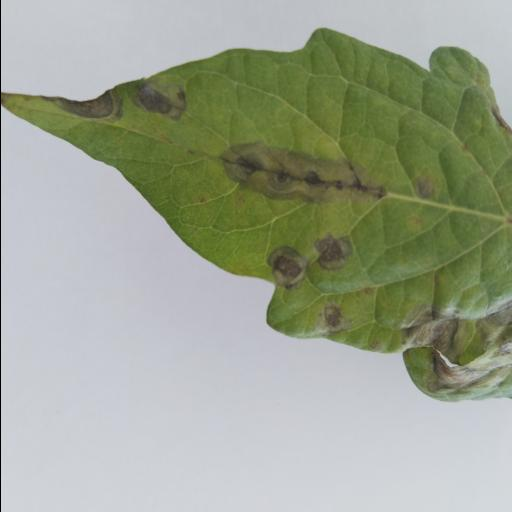Early Blight: (0, 30, 512, 404)
